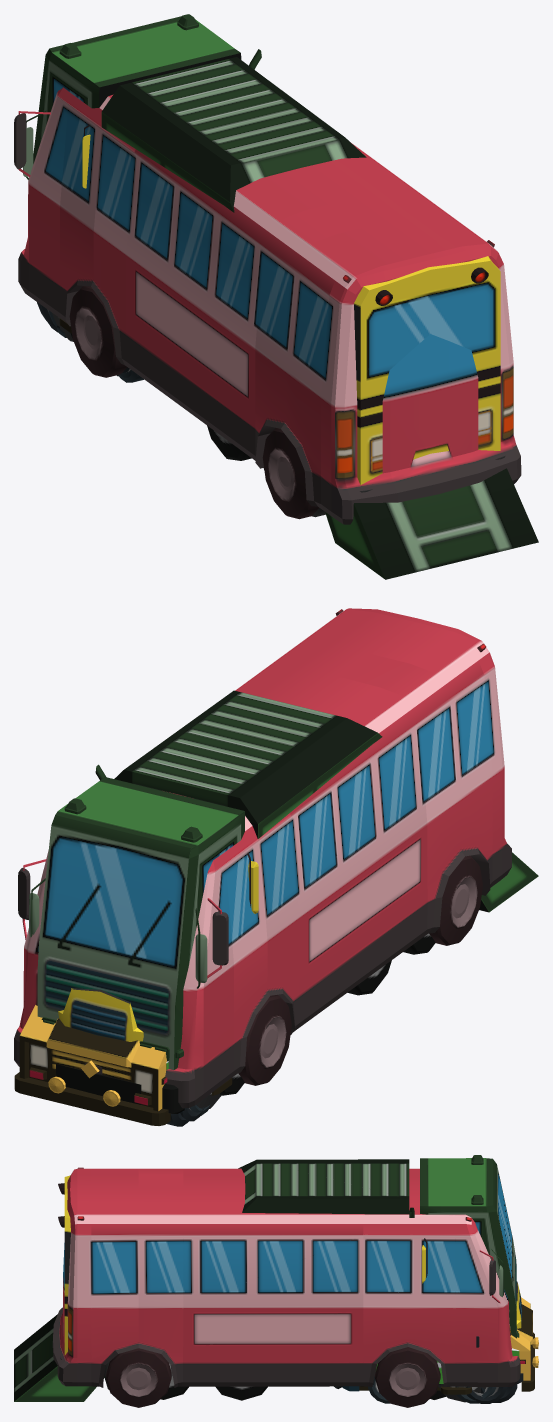
The model's file is Vehicles01.fbx.
The picture shows the model from 3 angles, top to bottom: view 1: azimuth 30°, elevation 25°; view 2: azimuth 150°, elevation 25°; view 3: azimuth 270°, elevation 25°; orthographic projection. The views are drawn at different scales.
Parts seen in each view (by area): view 1: CityBus01, garbage_truck, SchoolBus; view 2: CityBus01, garbage_truck, Car_Van, SchoolBus; view 3: CityBus01, garbage_truck, Car_Van, SchoolBus, Hatchback_Car01, Police_Car.
Part boxes in pixels (left/top/right/bottom): CityBus01: left=14, top=87, right=521, bottom=524; garbage_truck: left=23, top=14, right=538, bottom=579; SchoolBus: left=52, top=124, right=505, bottom=517; CityBus01: left=14, top=608, right=511, bottom=1108; garbage_truck: left=29, top=690, right=538, bottom=1113; Car_Van: left=14, top=1005, right=232, bottom=1126; SchoolBus: left=58, top=852, right=258, bottom=1108; CityBus01: left=52, top=1167, right=520, bottom=1407; garbage_truck: left=14, top=1155, right=521, bottom=1401; Car_Van: left=359, top=1297, right=538, bottom=1402; SchoolBus: left=58, top=1175, right=521, bottom=1402; Hatchback_Car01: left=373, top=1336, right=523, bottom=1403; Police_Car: left=334, top=1378, right=496, bottom=1403.
Size of the model in its own units: 555 by 721 by 1718.
